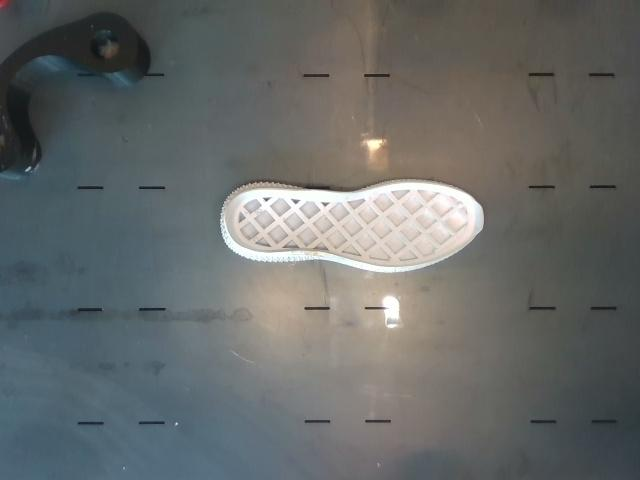shoes: (225, 183, 483, 267)
